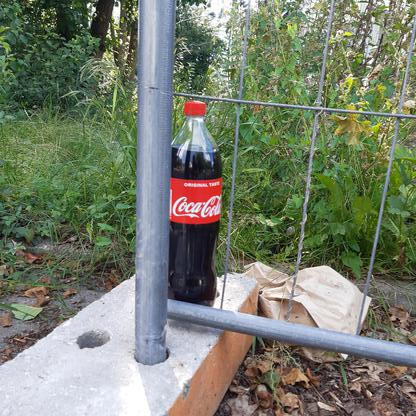coca-cola: (169, 98, 223, 308)
